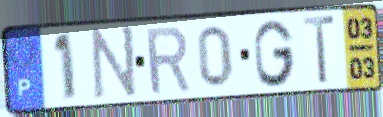0: (196, 23, 237, 91)
1: (52, 31, 78, 103)
G: (251, 17, 297, 90)
N: (90, 23, 138, 102)
R: (142, 23, 193, 98)
T: (301, 13, 338, 87)
